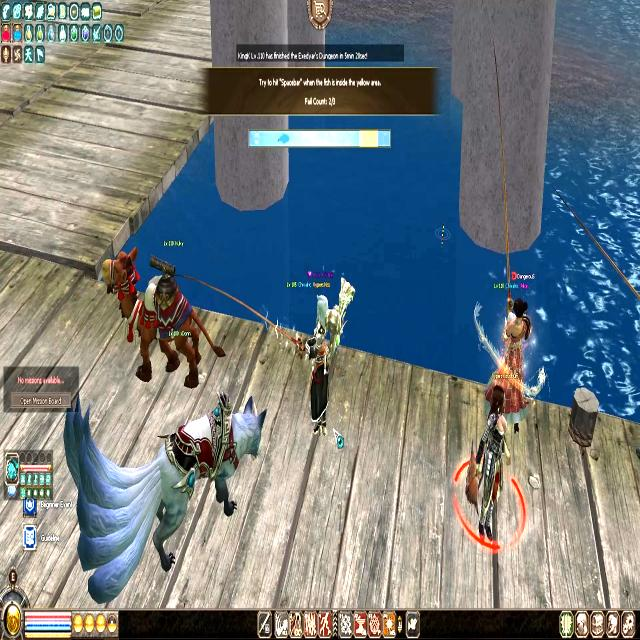fishes: (277, 132, 290, 145)
